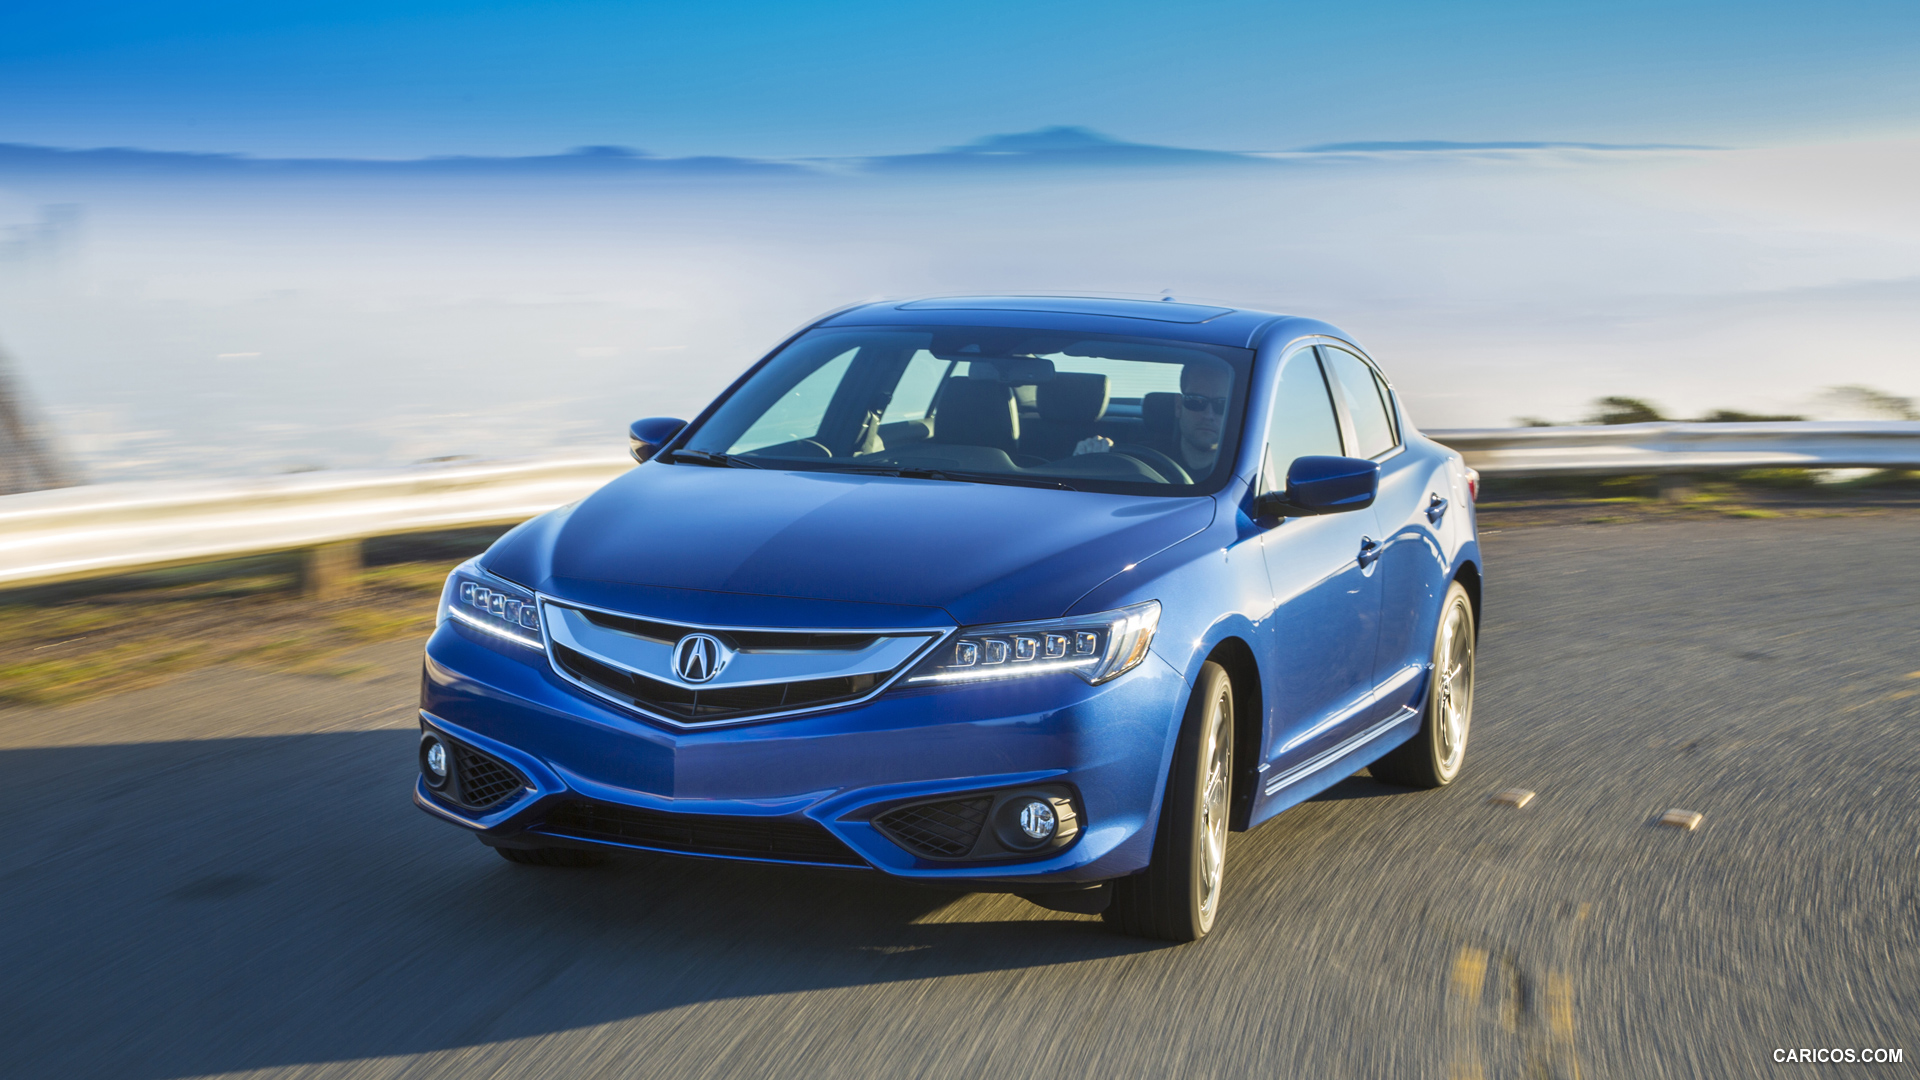Fog Lamp & Scope: (864, 778, 1093, 870)
Front: (400, 501, 1234, 882)
Front Bumper: (401, 700, 1195, 895)
Grill: (527, 589, 959, 732)
Headlight: (884, 595, 1170, 702)
